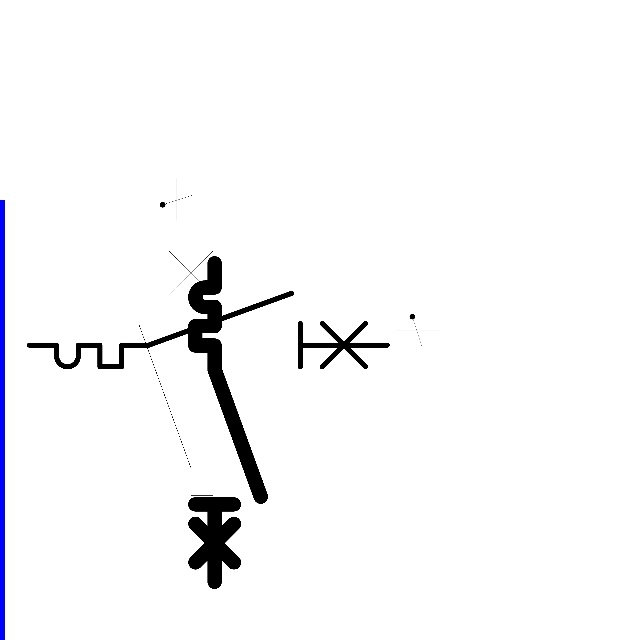interruptor_termomagnetico: (20, 284, 396, 376), (130, 220, 222, 596), (187, 255, 269, 589)
